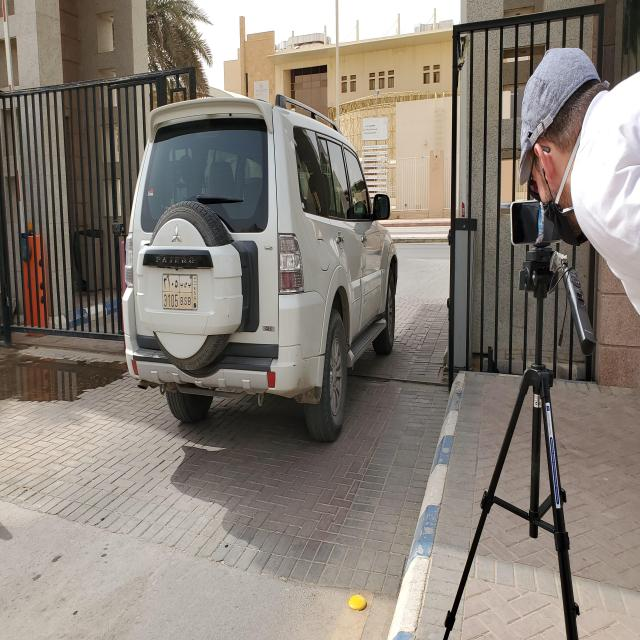license_plate: (162, 274, 197, 312)
